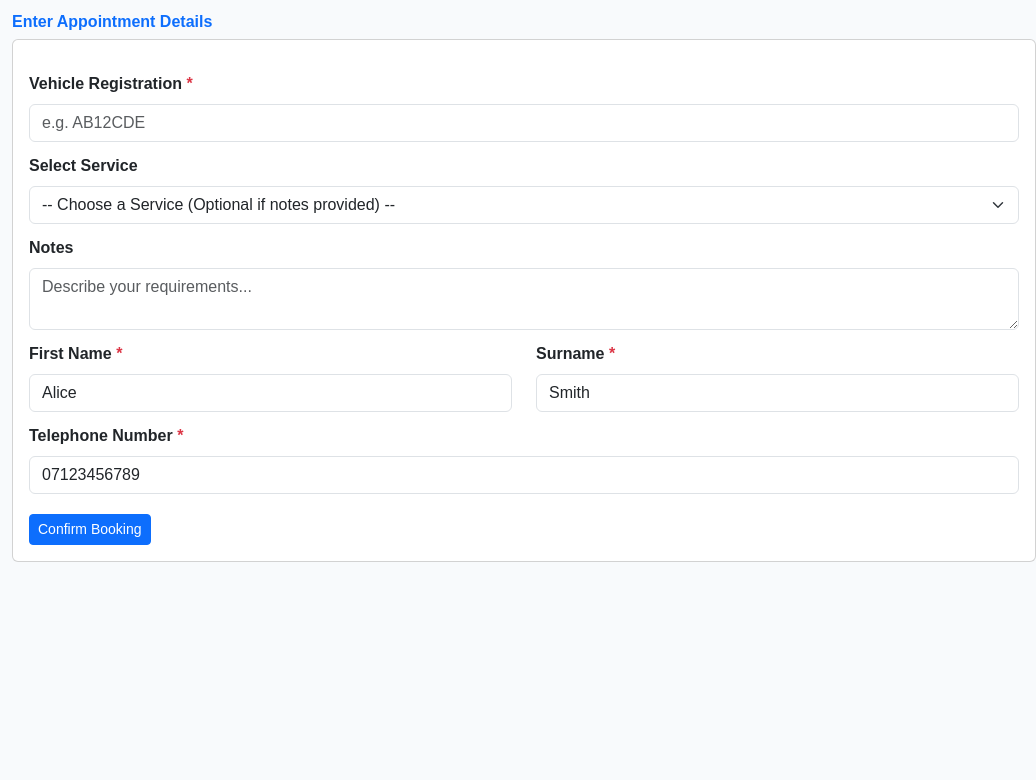
Test: BookingDetailsForm Component › shows error message if vehicle registration is empty on submit
Expected: the field showing "Alice" below "First Name" is shown, [29,374,512,412]
Click the button "Confirm Booking".
click(90, 530)  # box [29,514,150,545]
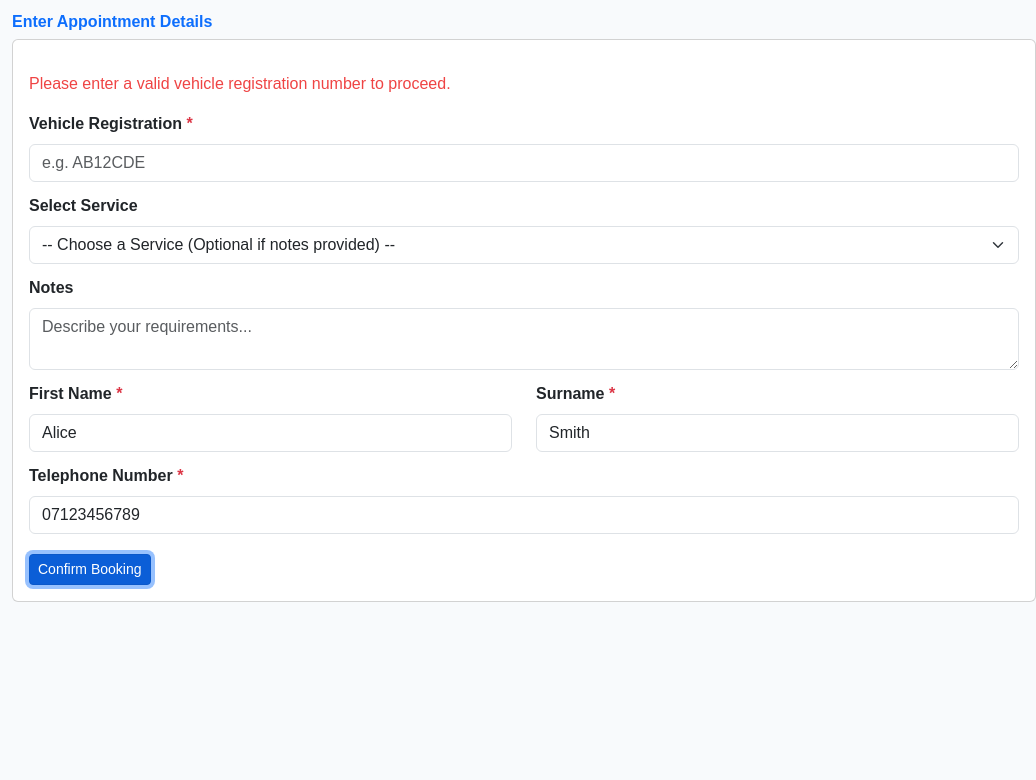
Now the text "Please enter a valid vehicle registration number to proceed." is shown, box [29,75,451,92]
